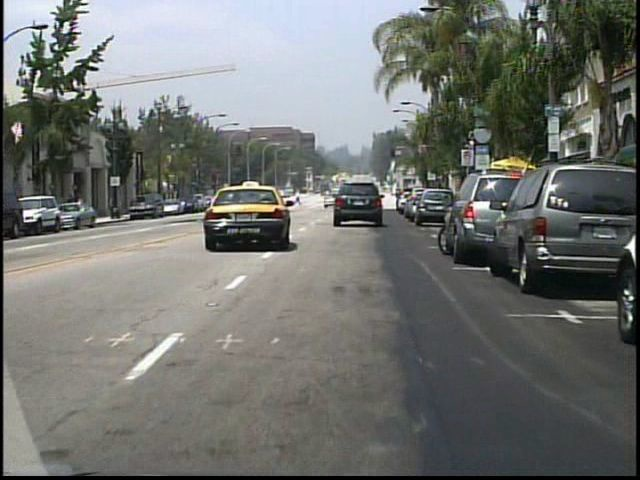person: (68, 189, 81, 222), (77, 192, 88, 221), (294, 190, 302, 207)
